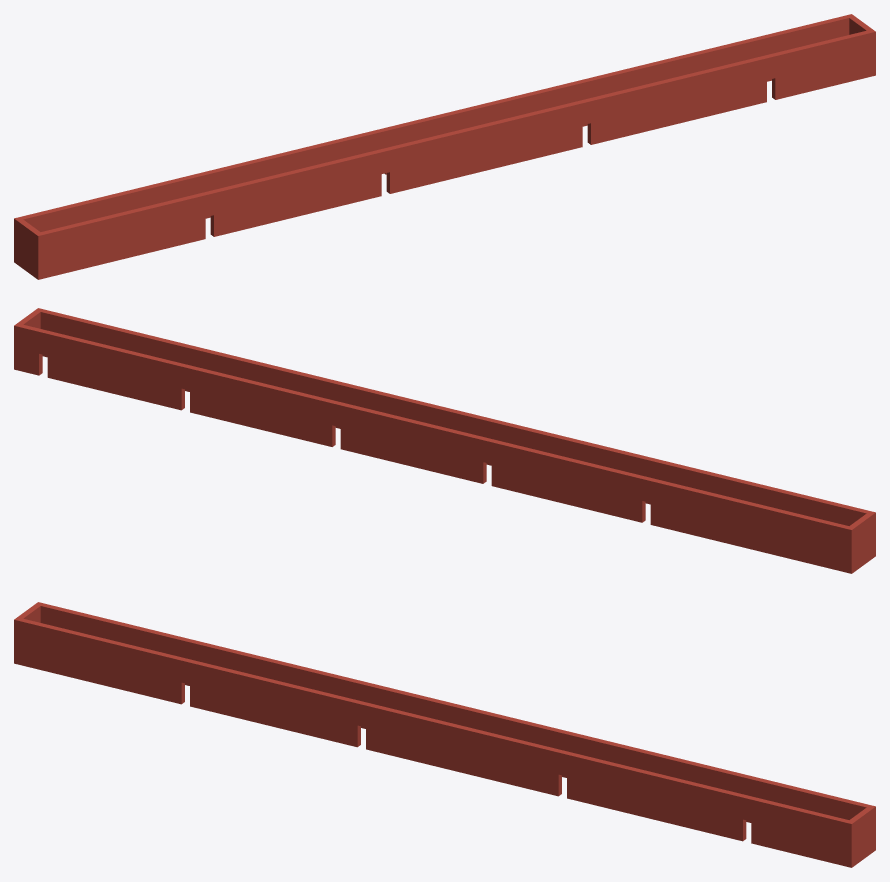
The model's file is corridor.dae.
3 views of the same model, one above another, from view 1: azimuth 30°, elevation 25°; view 2: azimuth 150°, elevation 25°; view 3: azimuth 330°, elevation 25° (orthographic).
Visible parts, largest first — view 1: node0; view 2: node0; view 3: node0.
Part boxes in pixels (x1,y1,x2,y2): node0: (14,14,875,279); node0: (14,308,875,573); node0: (14,602,875,867).
Bounding box in the file's own units: 100 × 5 × 5.
